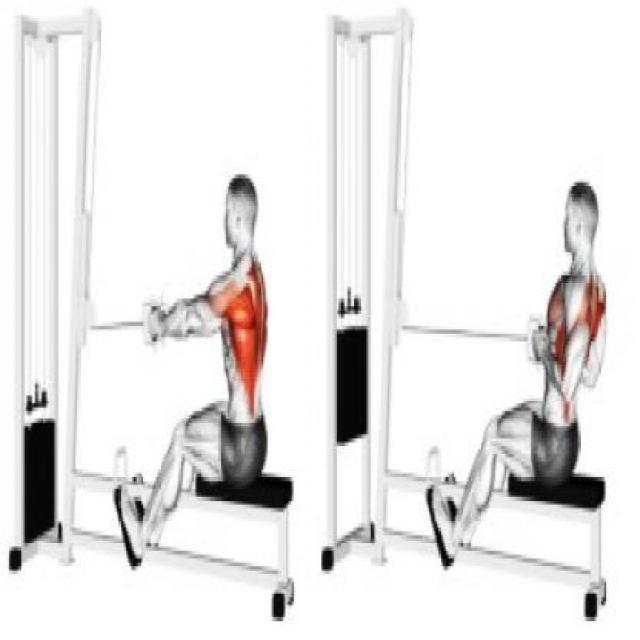Seated Cable Rows: (0, 12, 312, 639), (322, 8, 618, 629)
